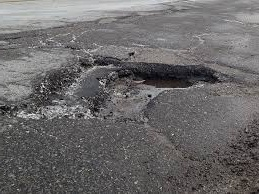pothole: (18, 54, 115, 125), (116, 61, 227, 91), (101, 86, 160, 121)
